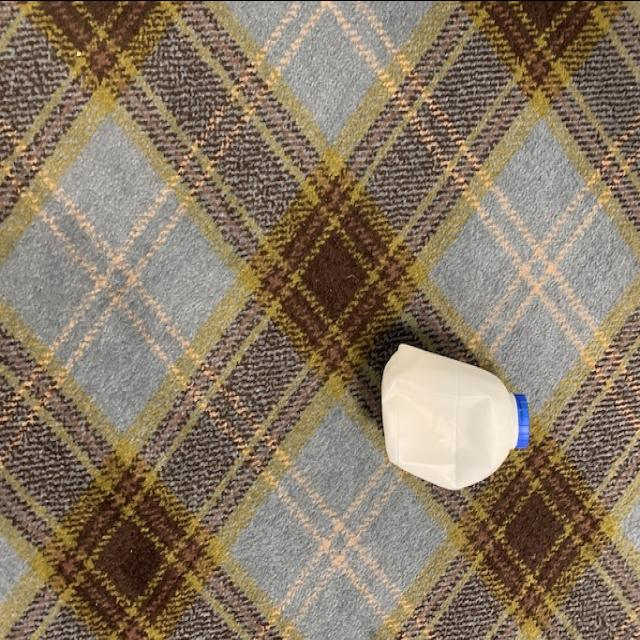HDPEM: (376, 335, 534, 490)
